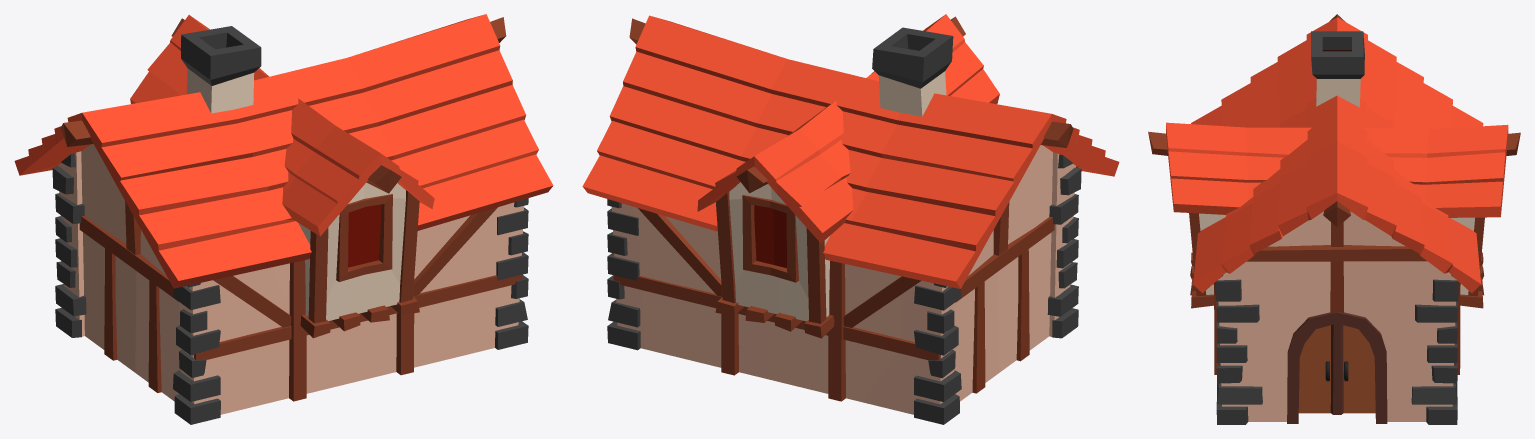
Rendered from House-Small01.fbx.
The picture shows the model from 3 angles, left to right: view 1: azimuth 30°, elevation 25°; view 2: azimuth 150°, elevation 25°; view 3: azimuth 270°, elevation 25°; orthographic projection. The views are drawn at different scales.
Visible parts, largest first — view 1: Cube.046, Cube.001, Cube.004, Cube.009, Cube.047, Cube.003, Cube.007, Cube.008, Cube.005, Cube.021; view 2: Cube.046, Cube.001, Cube.004, Cube.009, Cube.047, Cube.003, Cube.007, Cube.008, Cube.005, Cube.021; view 3: Cube.046, Cube.001, Cube.047, Cube.009, Cube.004, Cube.007, Cube.002, Cube.021, Cube.003, Cube.005.
Boxes of the visible parts, x1,y1,x2,y2 form: Cube.046: (14, 14, 553, 288); Cube.001: (58, 144, 523, 414); Cube.004: (104, 182, 419, 392); Cube.009: (52, 153, 528, 424); Cube.047: (130, 15, 434, 236); Cube.003: (55, 165, 522, 401); Cube.007: (181, 26, 261, 113); Cube.008: (79, 216, 178, 301); Cube.005: (60, 17, 506, 146); Cube.021: (171, 18, 401, 193); Cube.046: (582, 15, 1119, 288); Cube.001: (611, 145, 1075, 414); Cube.004: (715, 182, 1029, 393); Cube.009: (607, 154, 1081, 424); Cube.047: (697, 14, 999, 243); Cube.003: (613, 166, 1078, 401); Cube.007: (872, 27, 953, 116); Cube.008: (955, 217, 1054, 302); Cube.005: (629, 18, 1073, 147); Cube.021: (737, 16, 965, 193); Cube.046: (1191, 17, 1483, 413); Cube.001: (1218, 211, 1456, 421); Cube.047: (1166, 122, 1508, 217); Cube.009: (1216, 276, 1458, 424); Cube.004: (1189, 213, 1484, 414); Cube.007: (1311, 31, 1364, 107); Cube.002: (1287, 311, 1387, 423); Cube.021: (1148, 131, 1520, 155); Cube.003: (1213, 275, 1460, 374); Cube.005: (1323, 14, 1350, 227).
Bounding box in the file's own units: 140 × 95.28 × 116.
